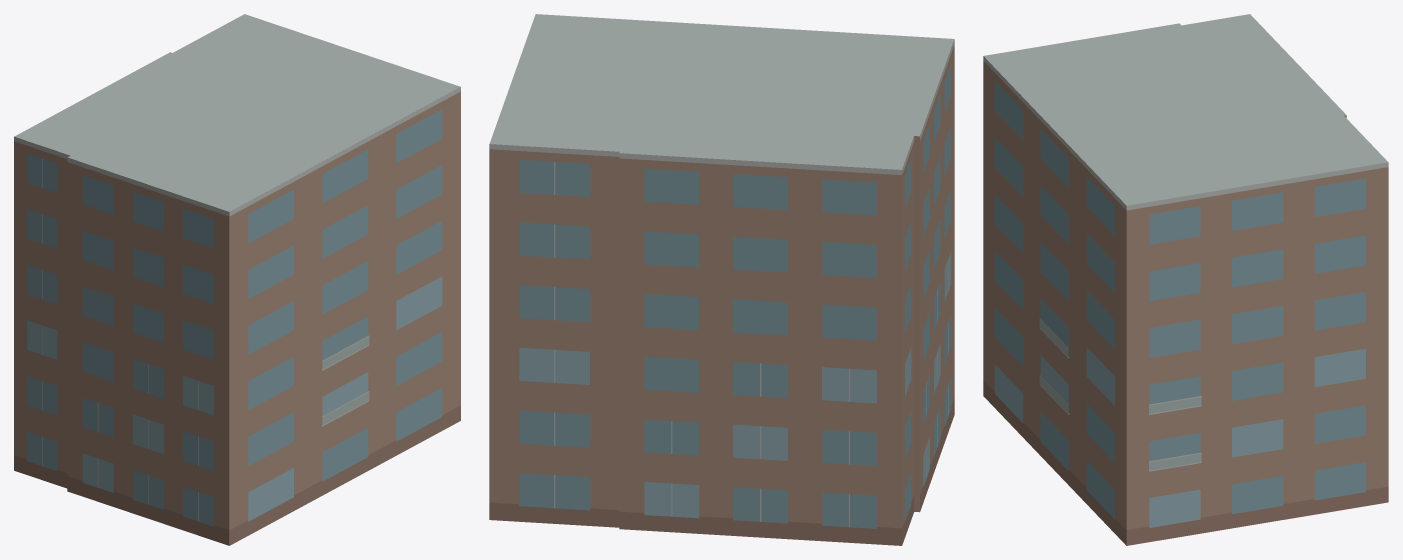
Rendered from survey-upis-32580300.glb.
The picture shows the model from 3 angles, left to right: view 1: azimuth 30°, elevation 25°; view 2: azimuth 150°, elevation 25°; view 3: azimuth 270°, elevation 25°; orthographic projection. The views are drawn at different scales.
Parts seen in each view (by area): view 1: survey-upis-32580300.tmp; view 2: survey-upis-32580300.tmp; view 3: survey-upis-32580300.tmp.
Boxes of the visible parts, x1,y1,x2,y2 form: survey-upis-32580300.tmp: [14, 14, 460, 545]; survey-upis-32580300.tmp: [489, 14, 954, 545]; survey-upis-32580300.tmp: [983, 14, 1388, 545].
Bounding box in the file's own units: 21.31 × 17.6 × 19.02.
